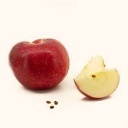apple: (72, 54, 121, 100)
